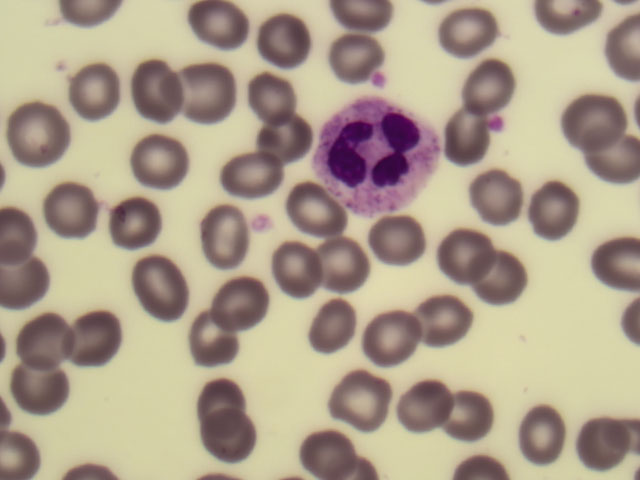Platelets: (245, 215, 274, 235), (484, 113, 509, 136), (369, 72, 394, 88)
RBC: (68, 67, 122, 116), (129, 69, 183, 118), (176, 60, 230, 109), (193, 2, 247, 51), (254, 15, 308, 64), (246, 68, 300, 117), (253, 114, 307, 163), (225, 147, 279, 196), (138, 141, 192, 190), (19, 113, 73, 162), (47, 183, 101, 232), (1, 257, 55, 306), (20, 309, 74, 358), (10, 358, 64, 407), (74, 316, 128, 365), (135, 260, 189, 309), (100, 197, 154, 246), (191, 209, 245, 258), (216, 275, 270, 324), (182, 315, 236, 364), (193, 373, 247, 422), (206, 412, 260, 461), (301, 426, 355, 475), (336, 374, 390, 423), (306, 296, 360, 345), (310, 235, 364, 284), (274, 236, 328, 285), (281, 190, 335, 239), (364, 212, 418, 261), (431, 226, 485, 275), (414, 295, 468, 344), (357, 313, 411, 362), (394, 382, 448, 431), (439, 395, 493, 444), (477, 256, 531, 305), (469, 172, 523, 221), (525, 179, 579, 228), (427, 113, 481, 162), (454, 50, 508, 99), (442, 7, 496, 56), (324, 29, 378, 78), (563, 97, 617, 146), (586, 138, 640, 187), (586, 234, 640, 283), (584, 421, 638, 470), (510, 414, 564, 463)
WBC: (312, 96, 444, 217)
